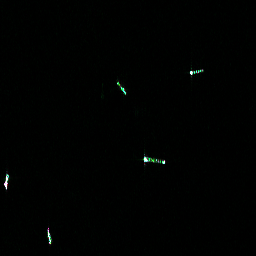ship: (142, 154, 167, 167), (1, 171, 12, 191), (115, 80, 127, 96), (188, 67, 206, 77), (45, 230, 53, 246)
